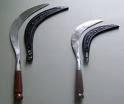foice: (9, 4, 48, 99), (71, 19, 102, 95)
